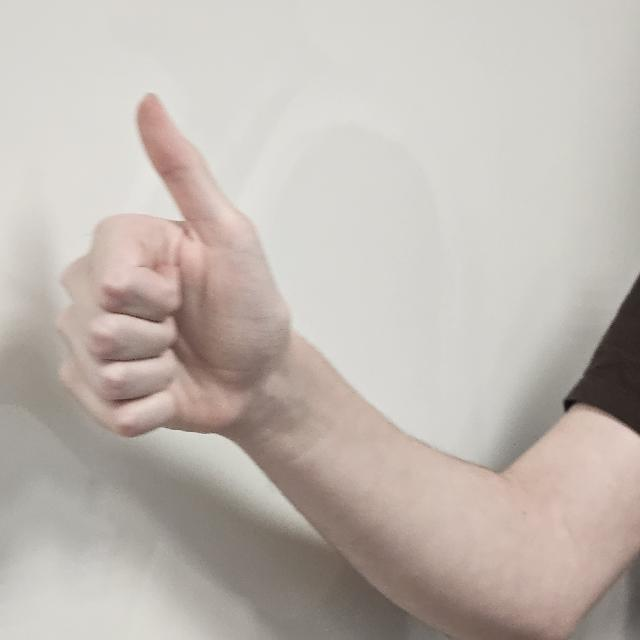Start: (62, 86, 292, 480)
